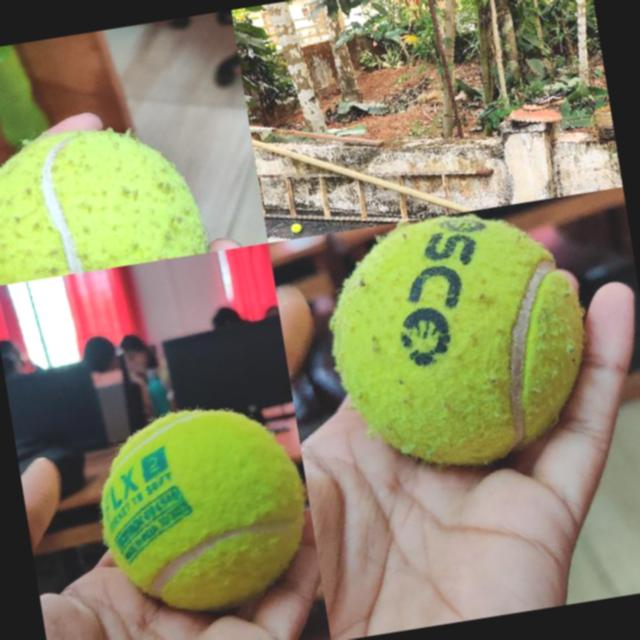tennis-ball: (314, 196, 602, 484), (88, 395, 320, 625), (0, 113, 208, 286), (290, 222, 302, 234)
